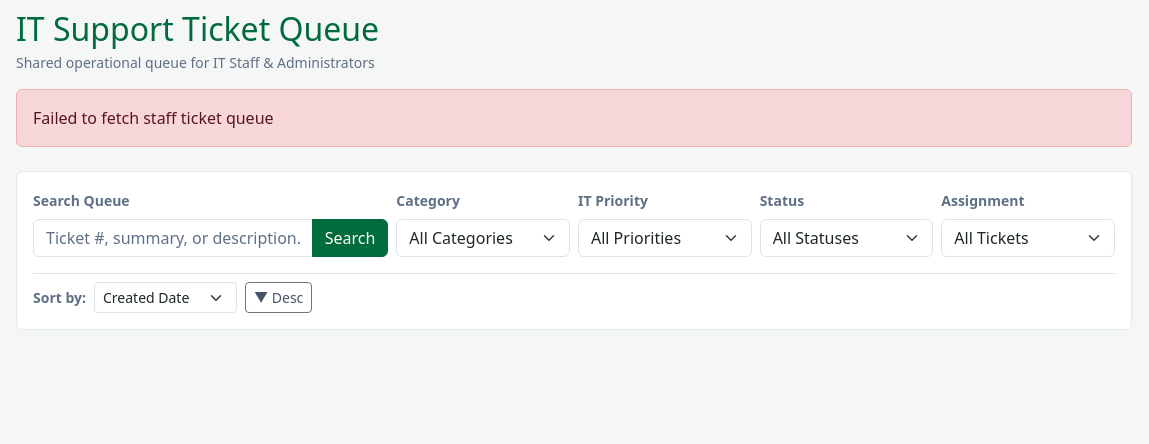
Scenario: Staff Queue through the real API transport › reports a failed query safely and recovers through the existing search action without losing input
This screenshot has width=1149, height=444.
Expected: the message reads "Failed to fetch staff ticket queue", [33, 107, 274, 129]
Type "Verified Staff" into the field with placeholder "Ticket #, summary, or description...". click: point(173, 238)
box: [33, 219, 313, 257]
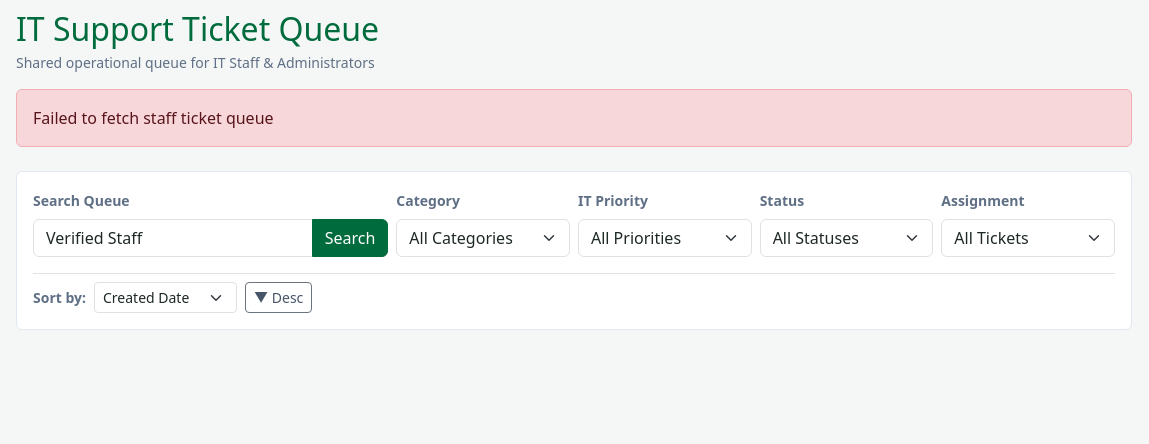
Click the button "Search". click: point(350, 238)
box: [312, 219, 388, 257]
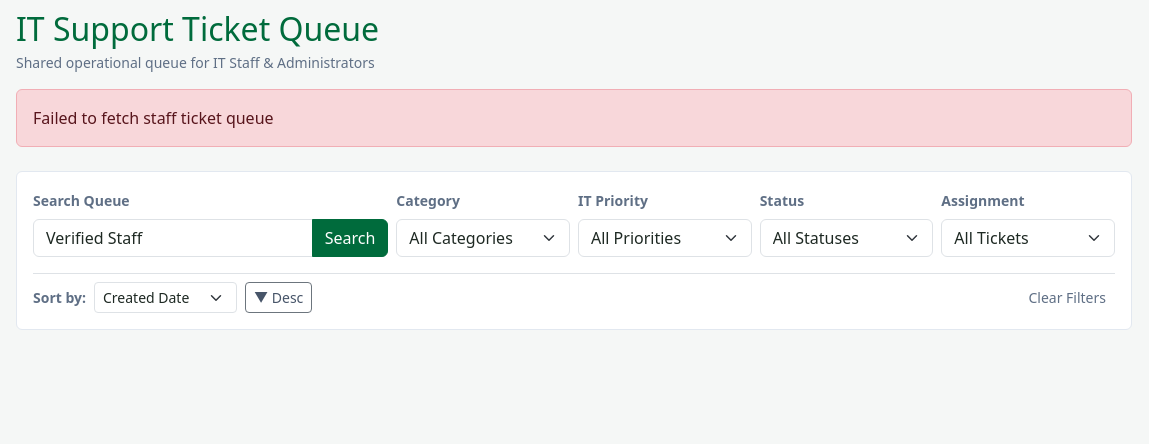
Expected: the message reads "Failed to fetch staff ticket queue", [33, 107, 274, 129]
Note: Retry the exact same retained search, rather than changing filters to force an effect.
Click the button "Search". click: point(350, 238)
box: [312, 219, 388, 257]
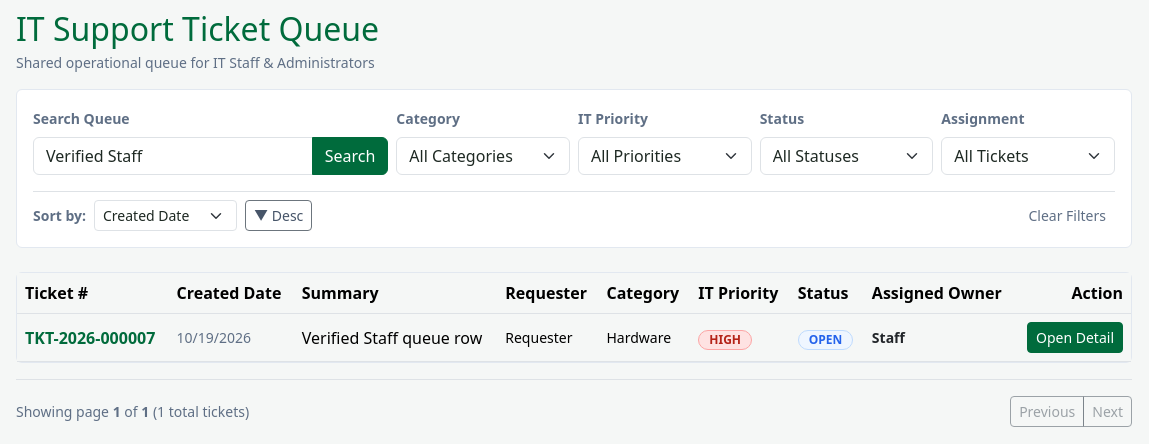
Expected: the cell "Verified Staff queue row" is shown, [294, 314, 497, 362]
Expected: the message "Failed to fetch staff ticket queue" is gone
